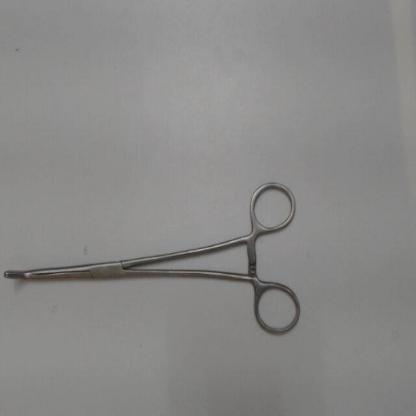Lahey Forceps: (1, 176, 304, 339)
